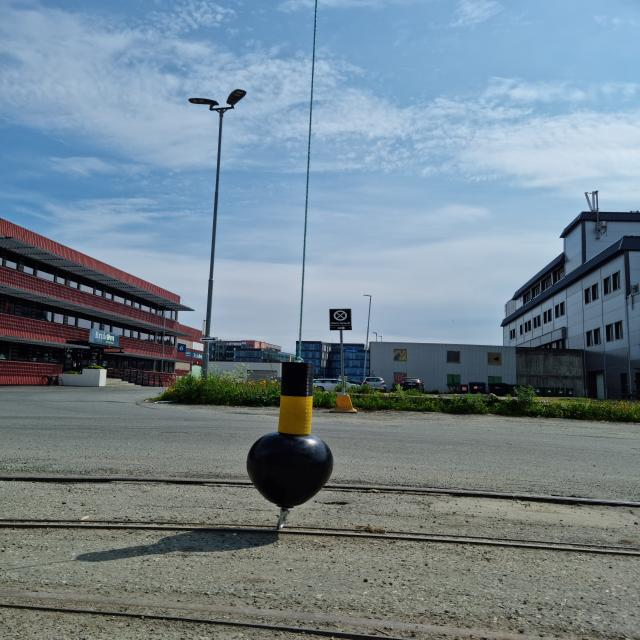east: (245, 361, 334, 509)
